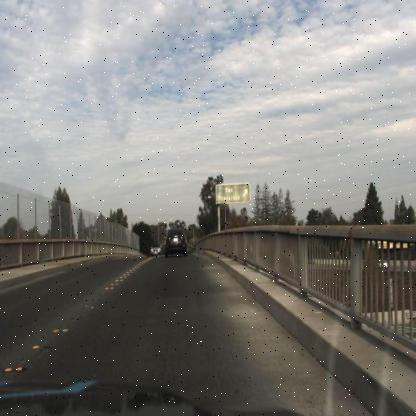car: (156, 221, 187, 262), (372, 252, 394, 275), (148, 237, 164, 261)
